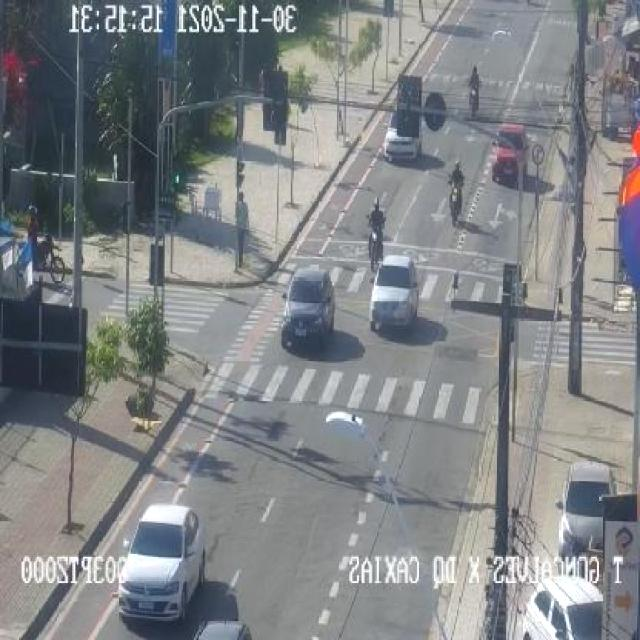Car: (115, 504, 208, 624), (555, 462, 618, 555), (520, 577, 604, 640), (279, 268, 337, 347), (368, 254, 419, 331), (491, 123, 530, 181), (382, 108, 420, 163), (191, 620, 251, 640)
Cycle: (32, 231, 66, 284), (366, 212, 388, 272), (447, 180, 467, 228), (467, 80, 482, 117)
